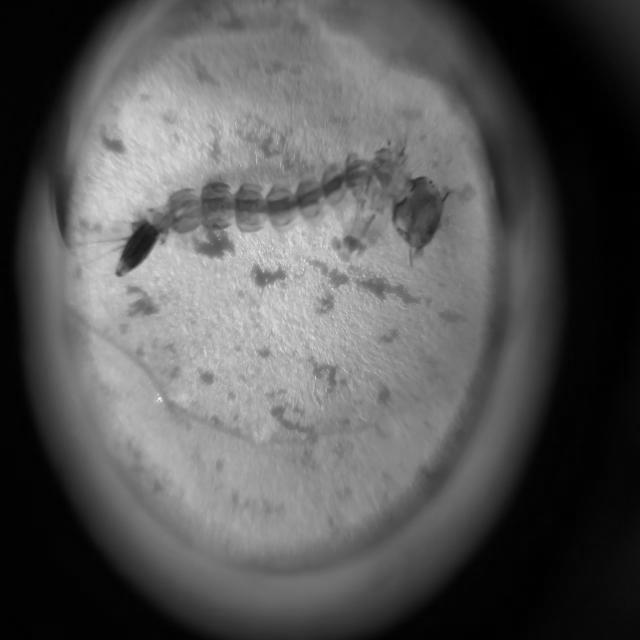larvas: (102, 148, 450, 277)
